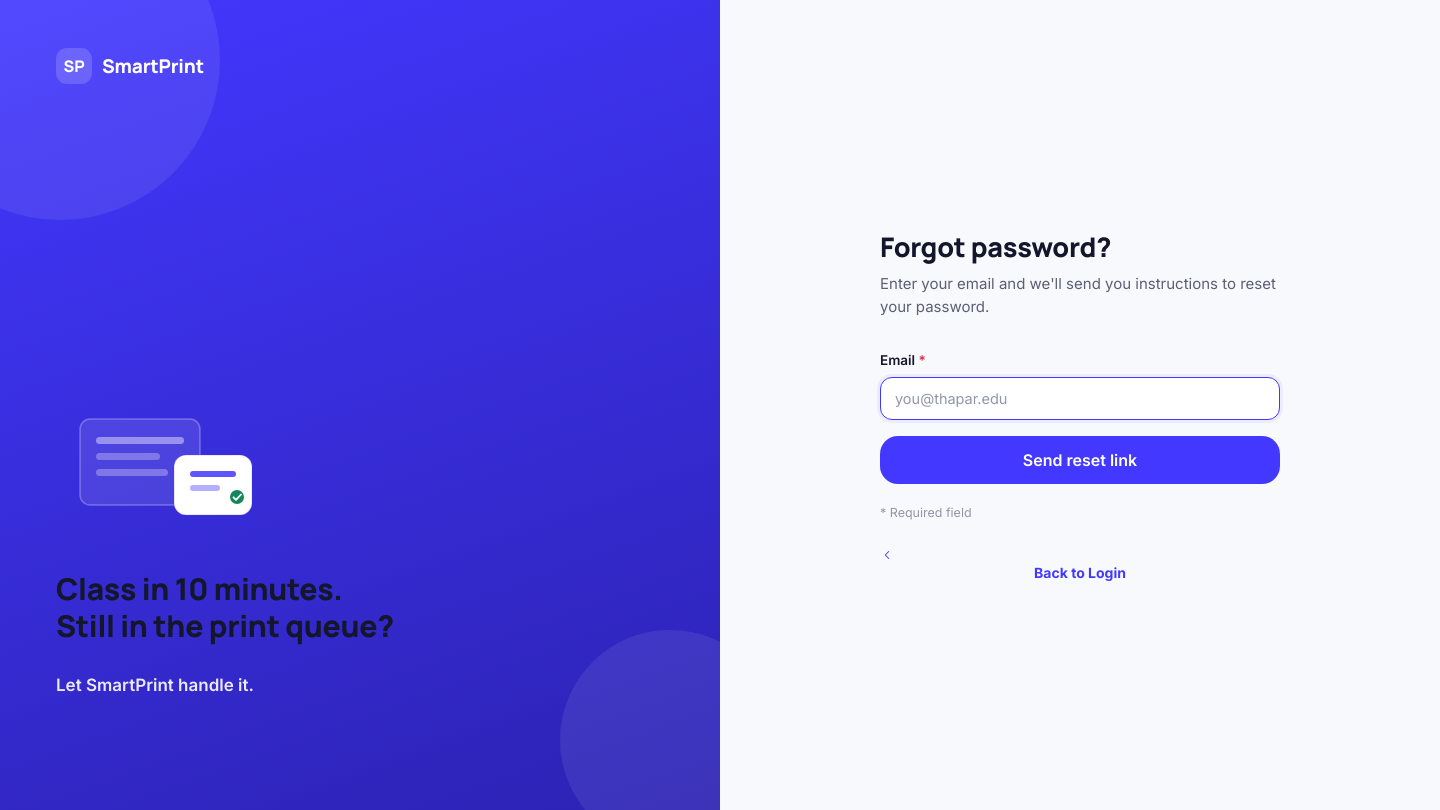
Test: ForgotPasswordPage › shows the same generic success message even for an email that does not exist
This screenshot has width=1440, height=810.
Type "random@example.com" into the field labelled "Email *".
click(1080, 398); type("random@example.com")  # box [880,376,1280,420]
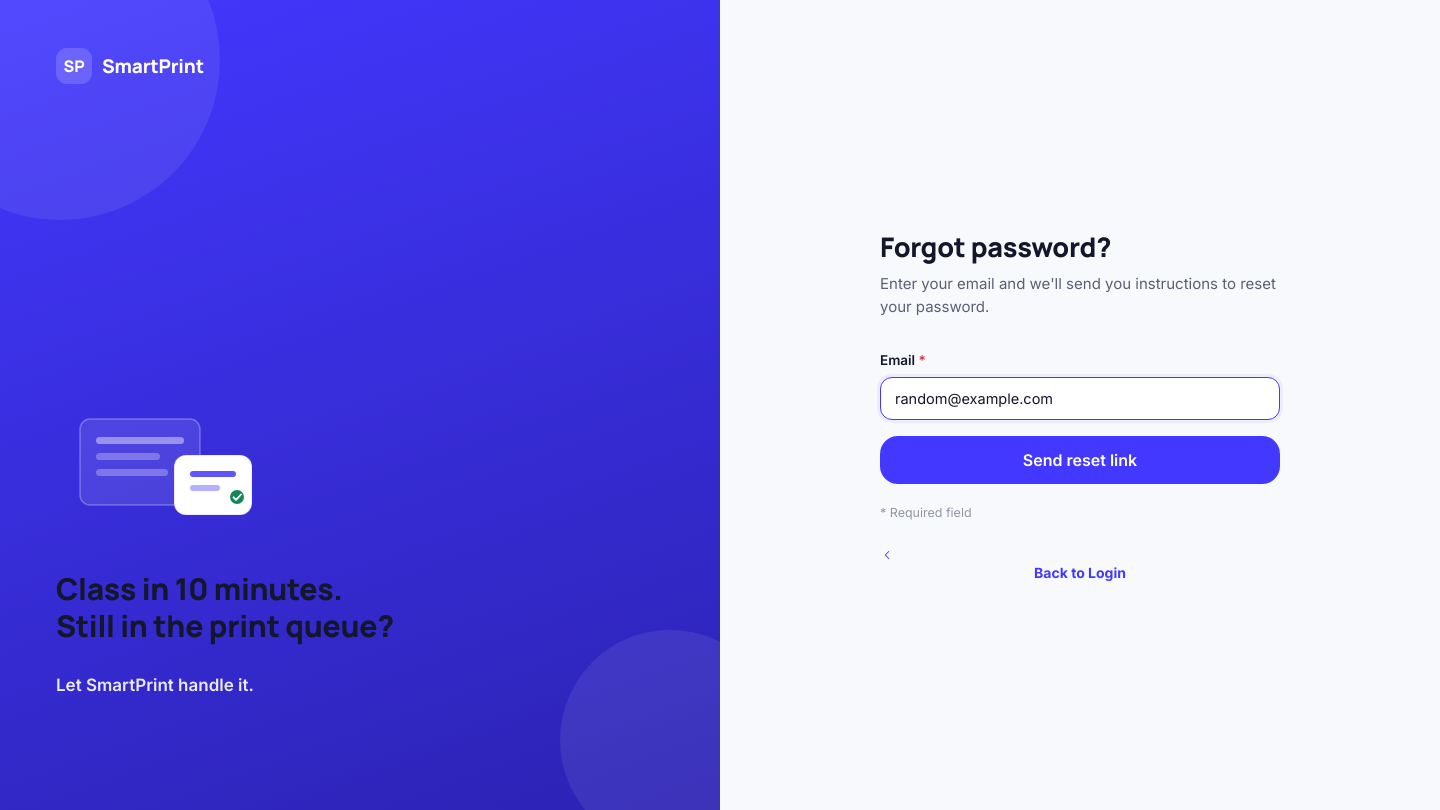
Click the button "Send reset link".
click(1080, 460)  # box [880,436,1280,484]
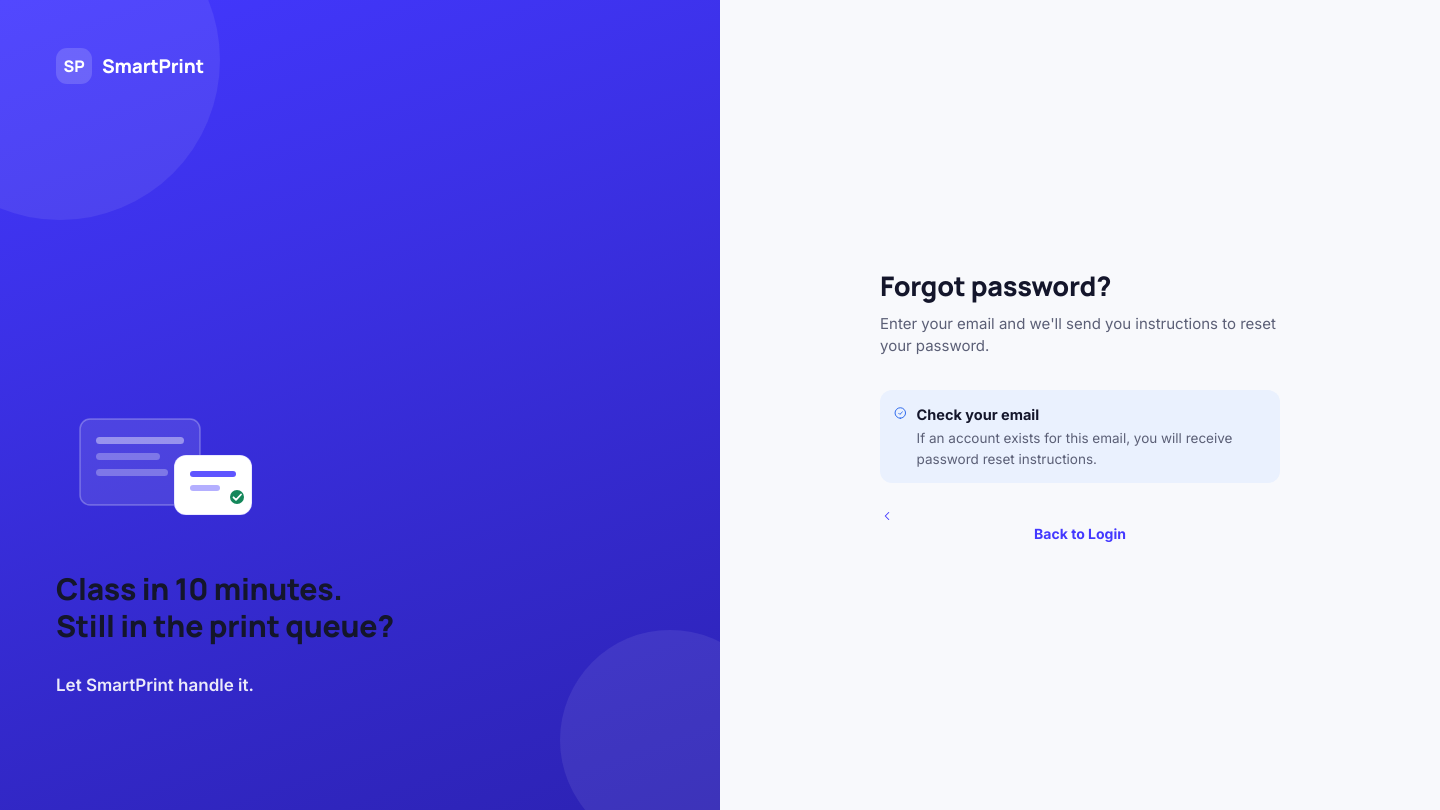
Now the text "If an account exists" is shown, box [917,430,1232,467]
